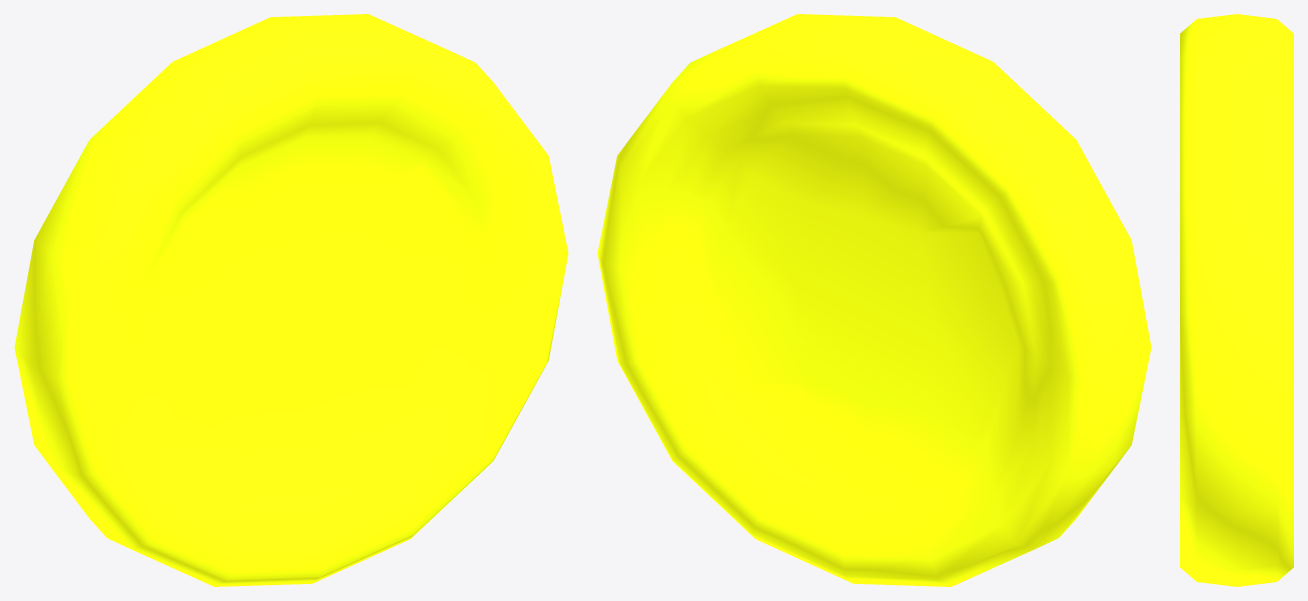
File: Coin.glb
3 renders of one model, left to right at view 1: azimuth 30°, elevation 25°; view 2: azimuth 150°, elevation 25°; view 3: azimuth 270°, elevation 25°, orthographic. The views are drawn at different scales.
Visible parts, largest first — view 1: Coin; view 2: Coin; view 3: Coin.
Boxes of the visible parts, <box> form: Coin: <box>14,14,568,586</box>; Coin: <box>597,14,1151,586</box>; Coin: <box>1180,14,1293,586</box>.
Bounding box in the file's own units: 6.04 × 6.04 × 1.2.
